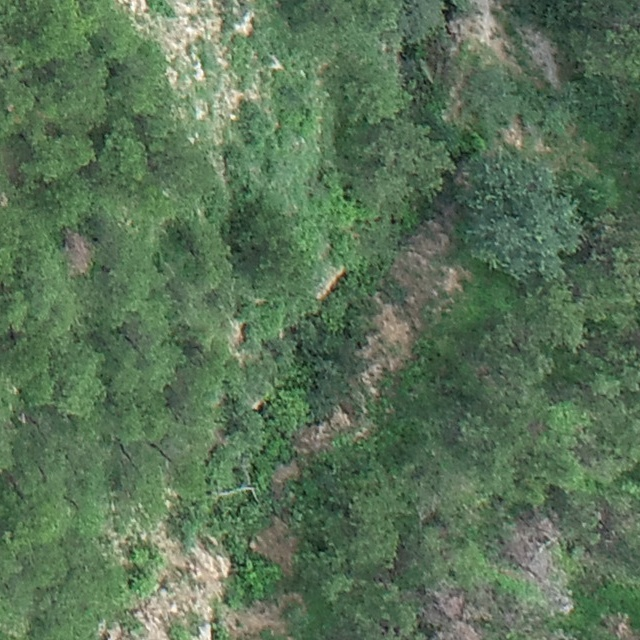unhealthy: (505, 505, 562, 581), (61, 228, 94, 275), (419, 589, 465, 619), (600, 609, 631, 636), (443, 620, 484, 639)
